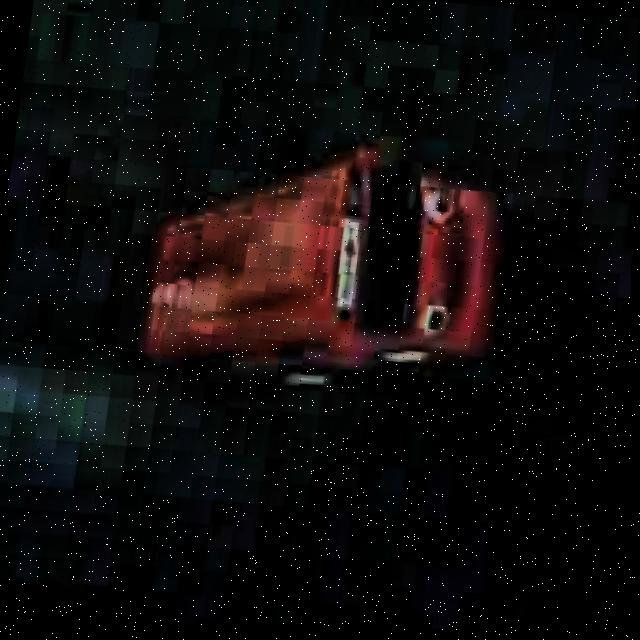bus: (118, 116, 539, 429)
